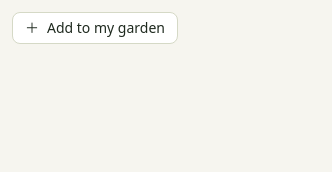
Test: AddToGardenButton › adds a planned planting dated today and then shows it is in the garden
The width and height of the screenshot is (332, 172).
Click the button "＋ Add to my garden" at (95, 28), box [12,12,178,44]
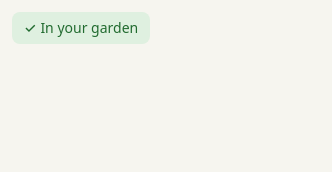
Expected: the text "✓ In your garden" is shown, [12,12,150,44]
Expected: the button "Add to my garden" is gone
